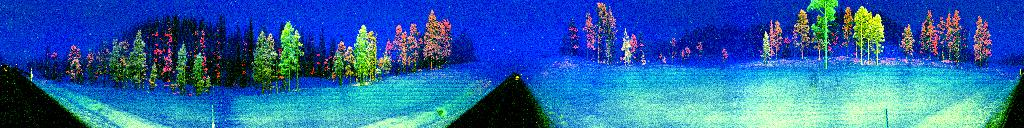pole: (881, 105, 889, 128), (210, 101, 216, 128)
